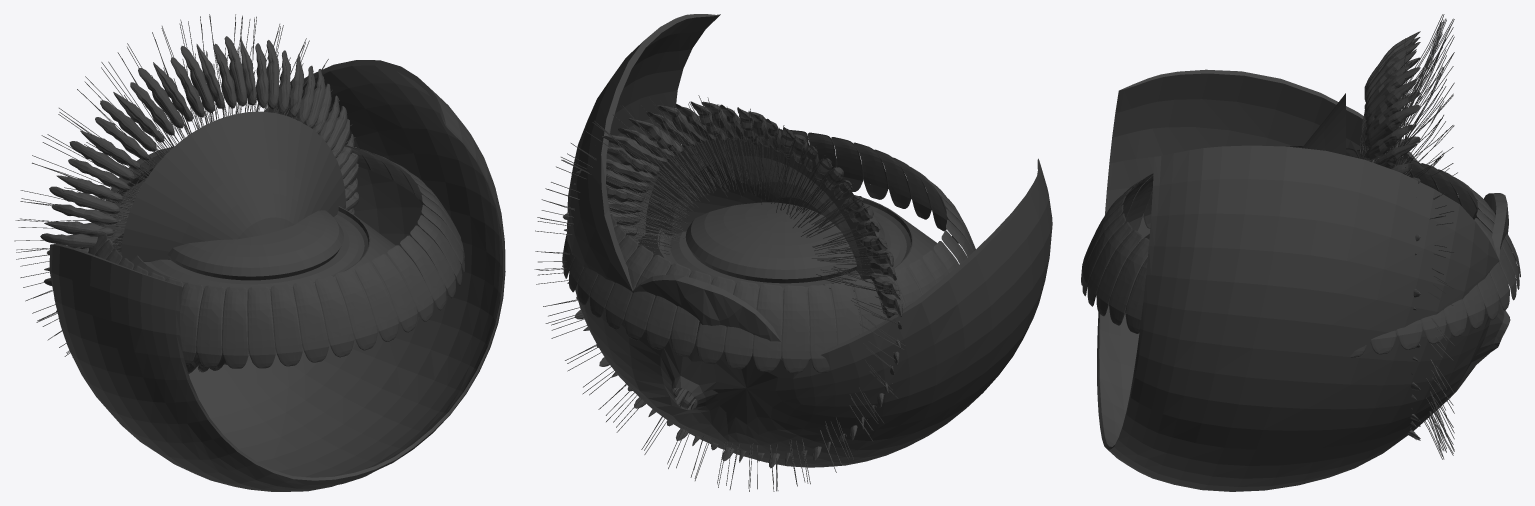
The model's file is sharedassets71.glb.
3 views of the same model, side by side, from view 1: azimuth 30°, elevation 25°; view 2: azimuth 150°, elevation 25°; view 3: azimuth 270°, elevation 25° (orthographic). The views are drawn at different scales.
Visible parts, largest first — view 1: 0068_Retina, optic, L__300633, 0016_Ciliary muscles, L__300647, 0005_Cornea, L__300636, 0017_Ciliary processes, L__300648, 0002_Lens, L__300632, 0004_Zonular fibers, L__300635, 0003_Iris, L__300634, 0021_Ora serrata, L__300652; view 2: 0068_Retina, optic, L__300633, 0016_Ciliary muscles, L__300647, 0004_Zonular fibers, L__300635, 0017_Ciliary processes, L__300648, 0005_Cornea, L__300636, 0002_Lens, L__300632, 0003_Iris, L__300634, 0021_Ora serrata, L__300652, 0019_Fovea centralis _macula_, L__300650; view 3: 0068_Retina, optic, L__300633, 0016_Ciliary muscles, L__300647, 0017_Ciliary processes, L__300648, 0004_Zonular fibers, L__300635, 0021_Ora serrata, L__300652, 0005_Cornea, L__300636.
Boxes of the visible parts, x1=… form: 0068_Retina, optic, L__300633: x1=49, y1=60, x2=505, y2=491; 0016_Ciliary muscles, L__300647: x1=80, y1=145, x2=463, y2=355; 0005_Cornea, L__300636: x1=121, y1=111, x2=345, y2=351; 0017_Ciliary processes, L__300648: x1=40, y1=36, x2=359, y2=373; 0002_Lens, L__300632: x1=167, y1=210, x2=343, y2=280; 0004_Zonular fibers, L__300635: x1=14, y1=14, x2=358, y2=371; 0003_Iris, L__300634: x1=112, y1=206, x2=409, y2=330; 0021_Ora serrata, L__300652: x1=183, y1=199, x2=464, y2=368; 0068_Retina, optic, L__300633: x1=567, y1=14, x2=1052, y2=467; 0016_Ciliary muscles, L__300647: x1=564, y1=129, x2=975, y2=359; 0004_Zonular fibers, L__300635: x1=534, y1=95, x2=905, y2=491; 0017_Ciliary processes, L__300648: x1=562, y1=101, x2=902, y2=468; 0005_Cornea, L__300636: x1=645, y1=137, x2=876, y2=279; 0002_Lens, L__300632: x1=685, y1=202, x2=884, y2=283; 0003_Iris, L__300634: x1=636, y1=195, x2=949, y2=335; 0021_Ora serrata, L__300652: x1=562, y1=175, x2=962, y2=373; 0019_Fovea centralis _macula_, L__300650: x1=681, y1=279, x2=745, y2=334; 0068_Retina, optic, L__300633: x1=1097, y1=69, x2=1510, y2=491; 0016_Ciliary muscles, L__300647: x1=1082, y1=146, x2=1518, y2=339; 0017_Ciliary processes, L__300648: x1=1364, y1=31, x2=1420, y2=440; 0004_Zonular fibers, L__300635: x1=1360, y1=14, x2=1457, y2=459; 0021_Ora serrata, L__300652: x1=1081, y1=214, x2=1520, y2=357; 0005_Cornea, L__300636: x1=1302, y1=93, x2=1345, y2=155.
Size of the model in its own units: 4.09 by 3.83 by 3.53.
Materials: 1 (1 with a texture image).
